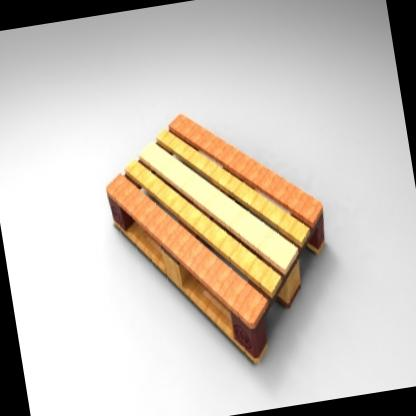BoxFace: (104, 108, 329, 378)
